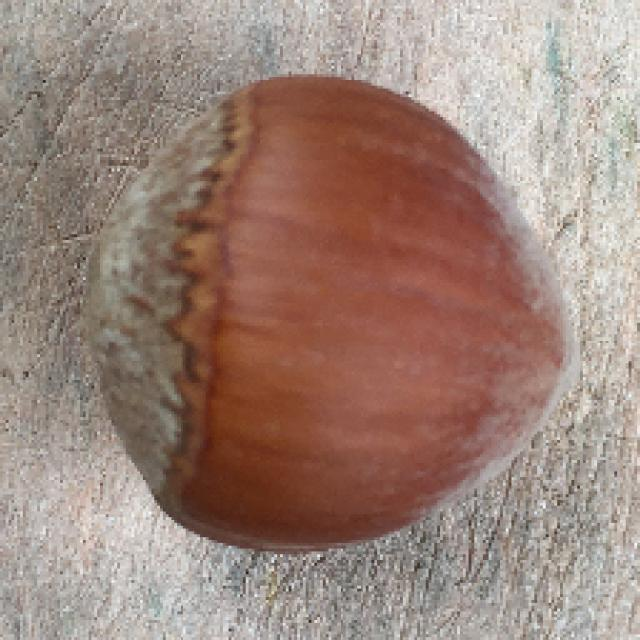qualityHazelnut: (81, 68, 577, 555)
